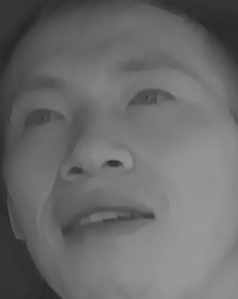eye: (119, 84, 181, 114), (18, 102, 67, 135)
mouth: (50, 189, 159, 249)
